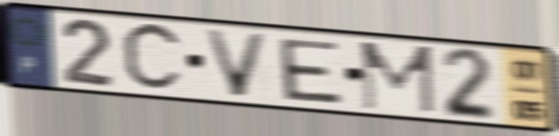2: (438, 45, 498, 123), (59, 16, 118, 90)
C: (118, 19, 185, 96)
E: (275, 36, 345, 107)
M: (357, 39, 439, 116)
V: (200, 27, 272, 100)
